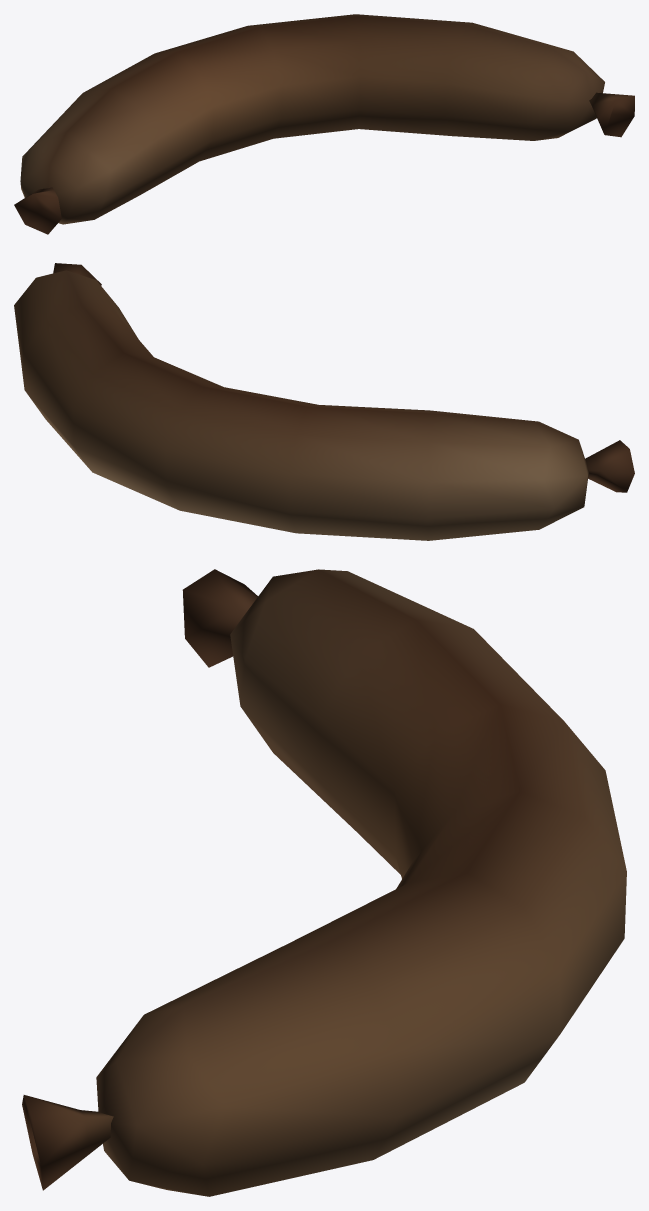
File: FBX_Sausage.fbx
3 renders of one model, top to bottom at view 1: azimuth 30°, elevation 25°; view 2: azimuth 150°, elevation 25°; view 3: azimuth 270°, elevation 25°, orthographic. The views are drawn at different scales.
Visible parts, largest first — view 1: Sausage; view 2: Sausage; view 3: Sausage.
Boxes of the visible parts, <box> form: Sausage: <box>14,14,634,234</box>; Sausage: <box>14,263,634,540</box>; Sausage: <box>22,569,626,1196</box>.
Size of the model in its own units: 0.1526 by 0.0276 by 0.0701.
